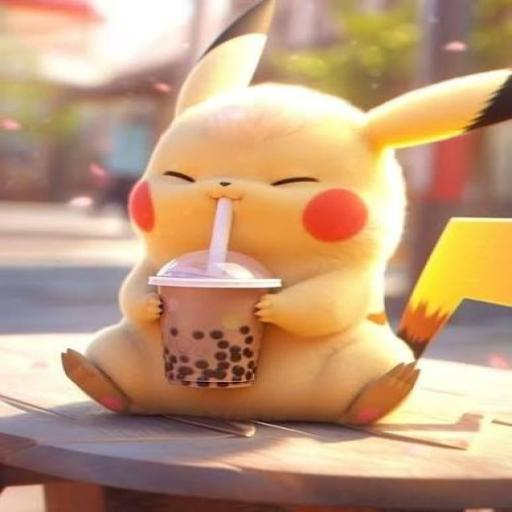Pikachu: (58, 0, 512, 427)
